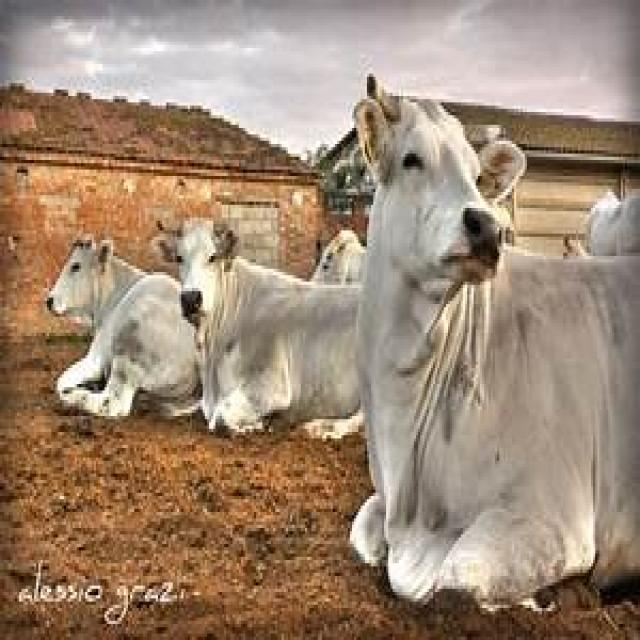cow: (348, 80, 640, 611), (160, 221, 363, 438), (45, 240, 207, 422)
